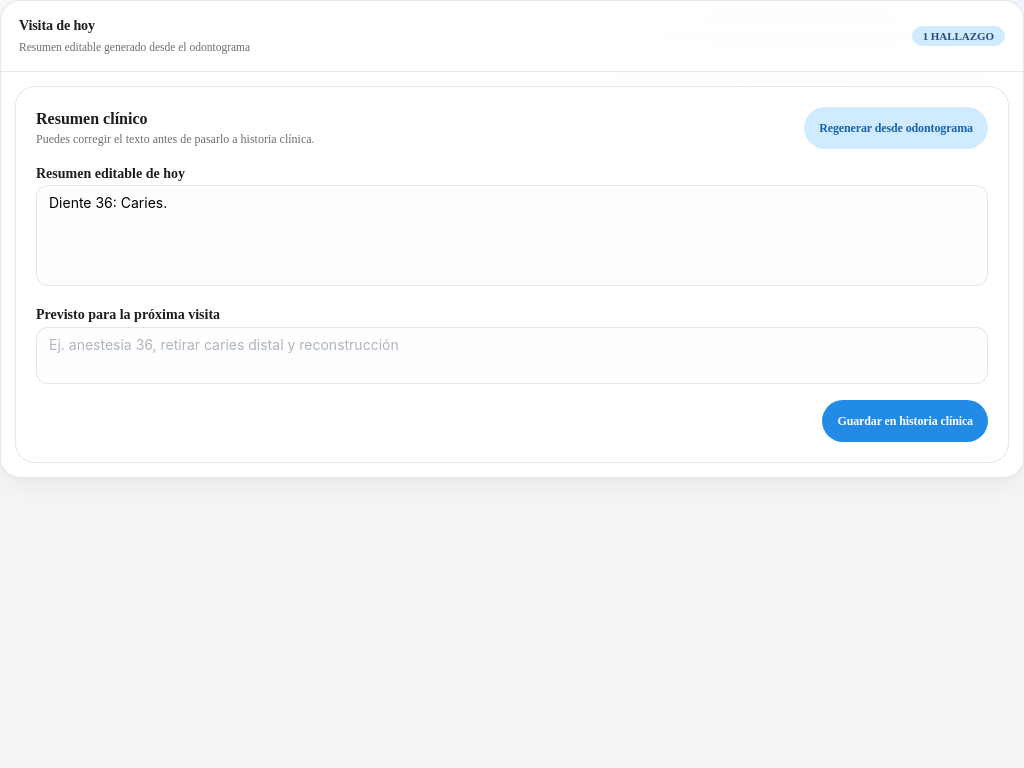
Test: OdontogramVisitSummaryPanel › guarda el resumen editable y lo previsto para la siguiente visita
In the text box labelled "Previsto para la próxima visita": point(512, 356) 36,327 -> 988,384, type "Reconstrucción 36 y valorar endodoncia."
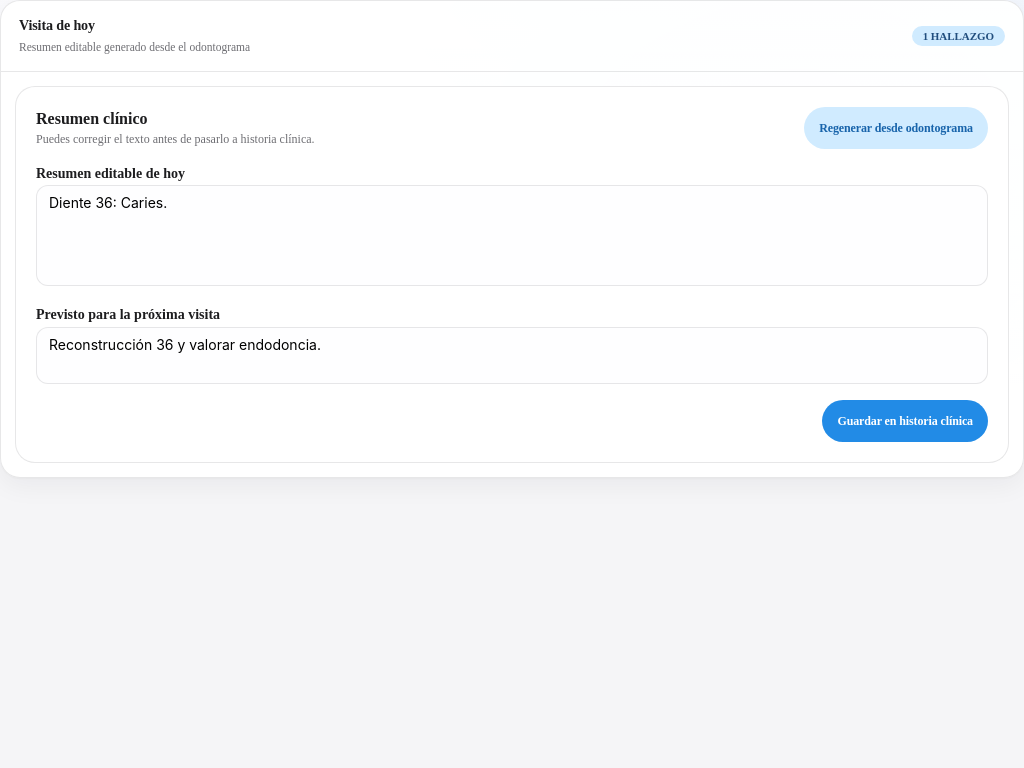
Click the button "Guardar en historia clínica": point(905, 421) 822,400 -> 988,442
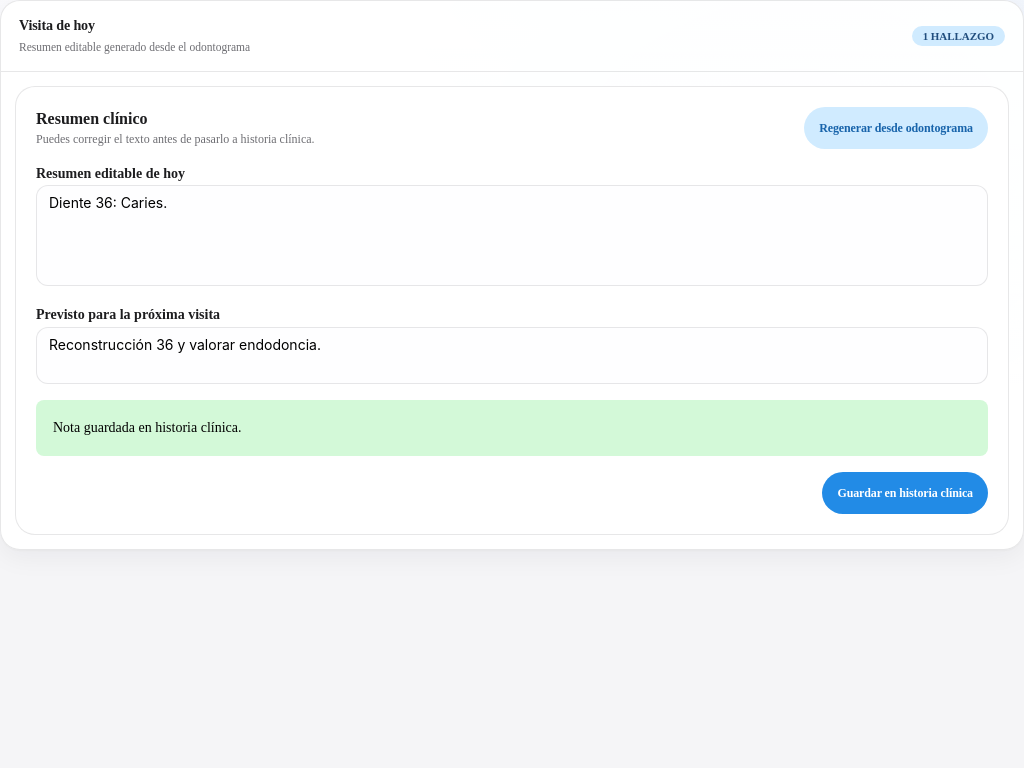
Check: the text "Nota guardada en historia clínica." is shown, box 53,420 -> 242,435
